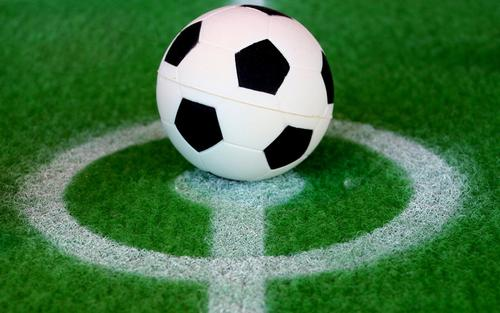football: (157, 5, 338, 185)
